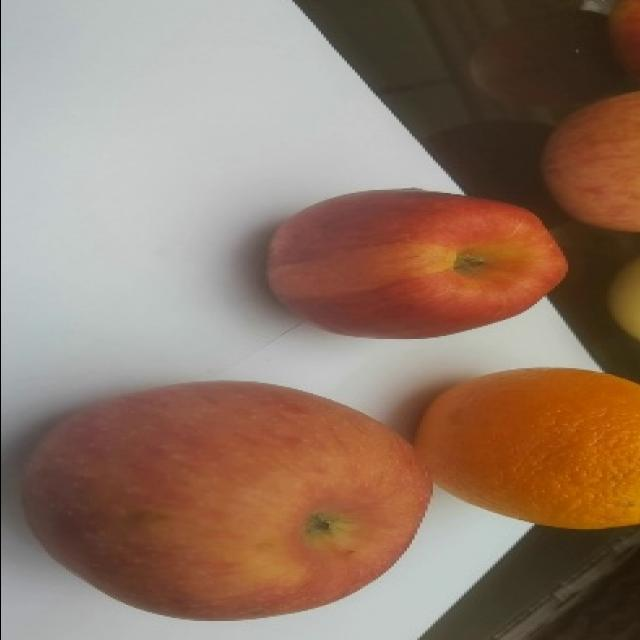Apple: (20, 378, 433, 621), (264, 186, 568, 339), (539, 89, 639, 233)
Orange: (413, 365, 639, 530)
